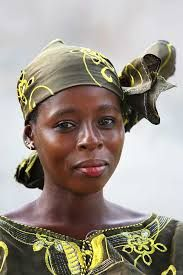no-mask: (10, 44, 143, 196)
